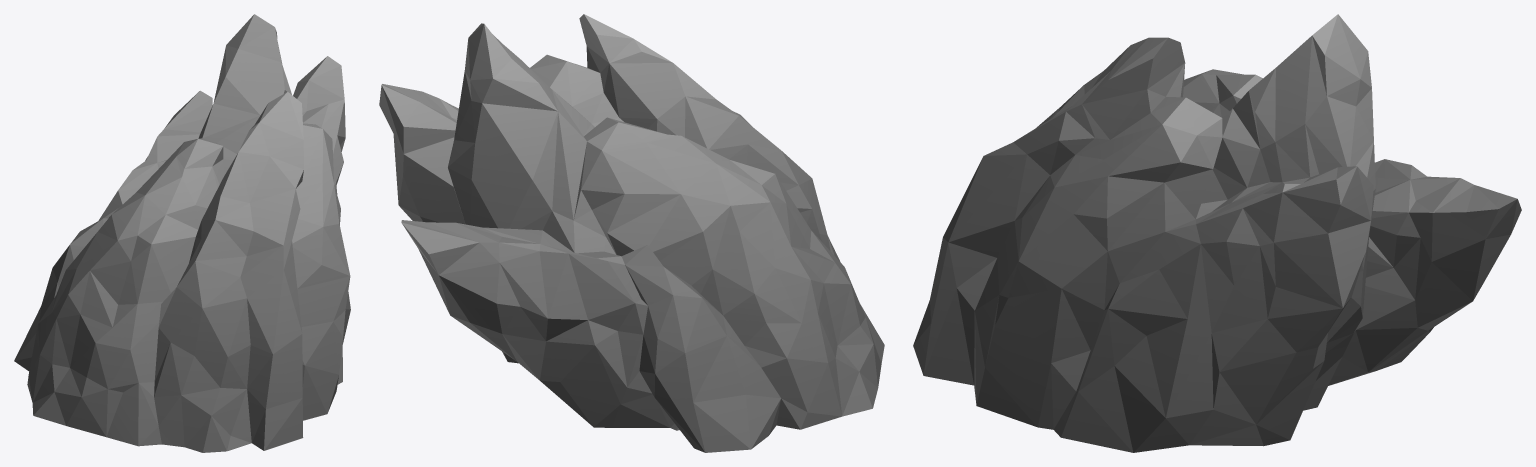
Rendered from stone-large-4.glb.
3 renders of one model, left to right at view 1: azimuth 30°, elevation 25°; view 2: azimuth 150°, elevation 25°; view 3: azimuth 270°, elevation 25°, orthographic. The views are drawn at different scales.
Parts seen in each view (by area): view 1: stone_large_4; view 2: stone_large_4; view 3: stone_large_4.
Boxes of the visible parts, x1,y1,x2,y2 form: stone_large_4: (14,14,350,452); stone_large_4: (379,14,884,452); stone_large_4: (913,14,1521,452).
Bounding box in the file's own units: 12 × 9.39 × 12.09.
1 material, 1 textured.
